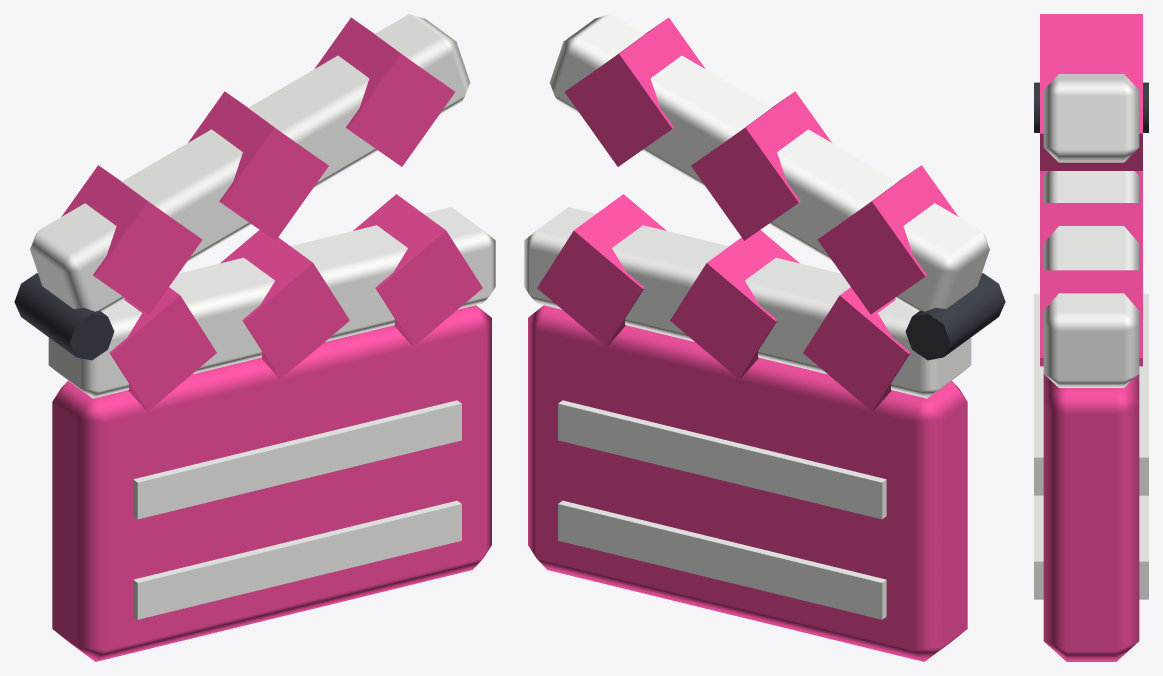
File: fluss_teil.glb
3 renders of one model, left to right at view 1: azimuth 30°, elevation 25°; view 2: azimuth 150°, elevation 25°; view 3: azimuth 270°, elevation 25°, orthographic. The views are drawn at different scales.
Parts seen in each view (by area): view 1: fluss_teil; view 2: fluss_teil; view 3: fluss_teil.
Boxes of the visible parts, x1=… form: fluss_teil: x1=14, y1=14, x2=495, y2=661; fluss_teil: x1=524, y1=14, x2=1005, y2=661; fluss_teil: x1=1034, y1=14, x2=1148, y2=661.
Size of the model in its own units: 0.274 by 0.3267 by 0.06.
